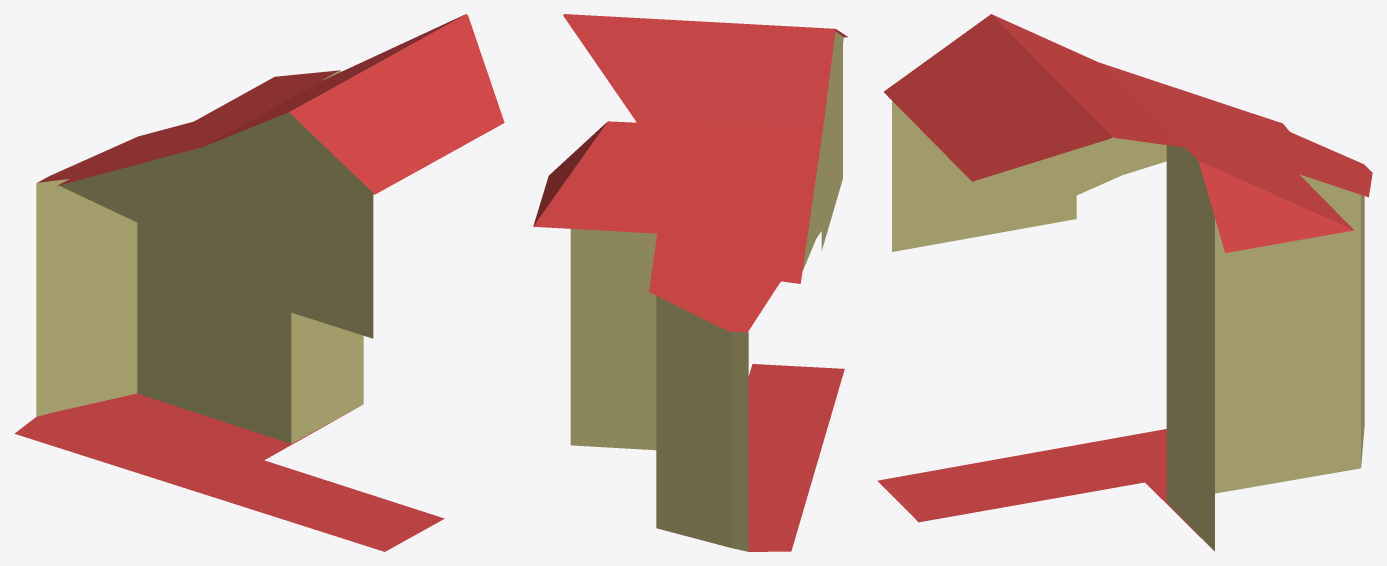
3 renders of one model, left to right at view 1: azimuth 30°, elevation 25°; view 2: azimuth 150°, elevation 25°; view 3: azimuth 270°, elevation 25°, orthographic. The views are drawn at different scales.
Size of the model in its own units: 13.59 by 15.53 by 15.35.
